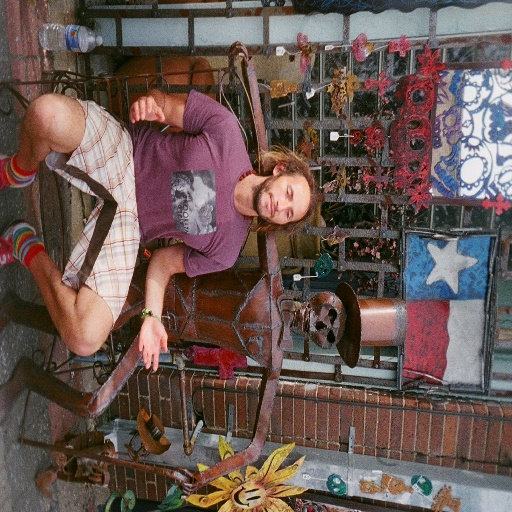hand: (138, 313, 168, 373), (126, 91, 167, 126), (174, 463, 201, 500), (228, 37, 251, 66)
